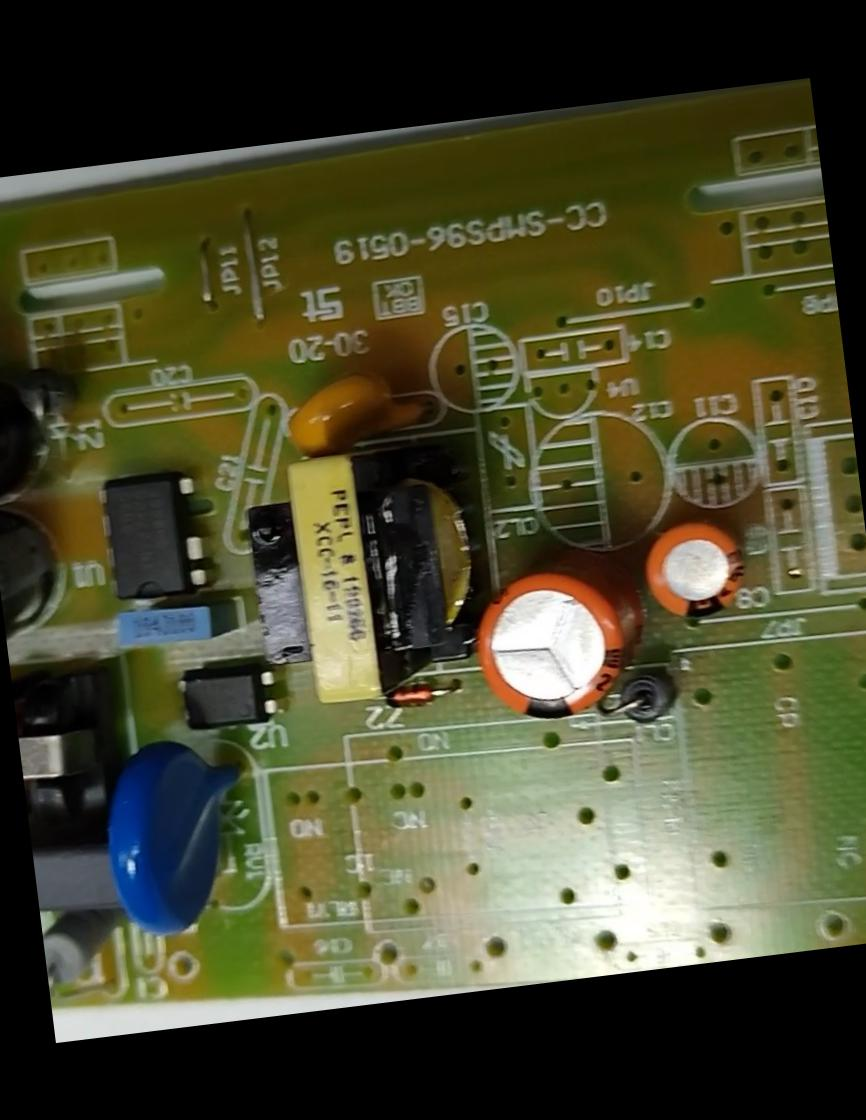Cap1: (458, 556, 654, 732)
Cap2: (633, 508, 765, 631)
Cap3: (0, 503, 77, 685)
Cap4: (0, 360, 52, 525)
MOSFET: (90, 461, 218, 608)
Mov: (94, 725, 270, 955)
Resistor: (39, 899, 126, 998)
Transformer: (232, 423, 501, 718), (10, 654, 140, 844)
